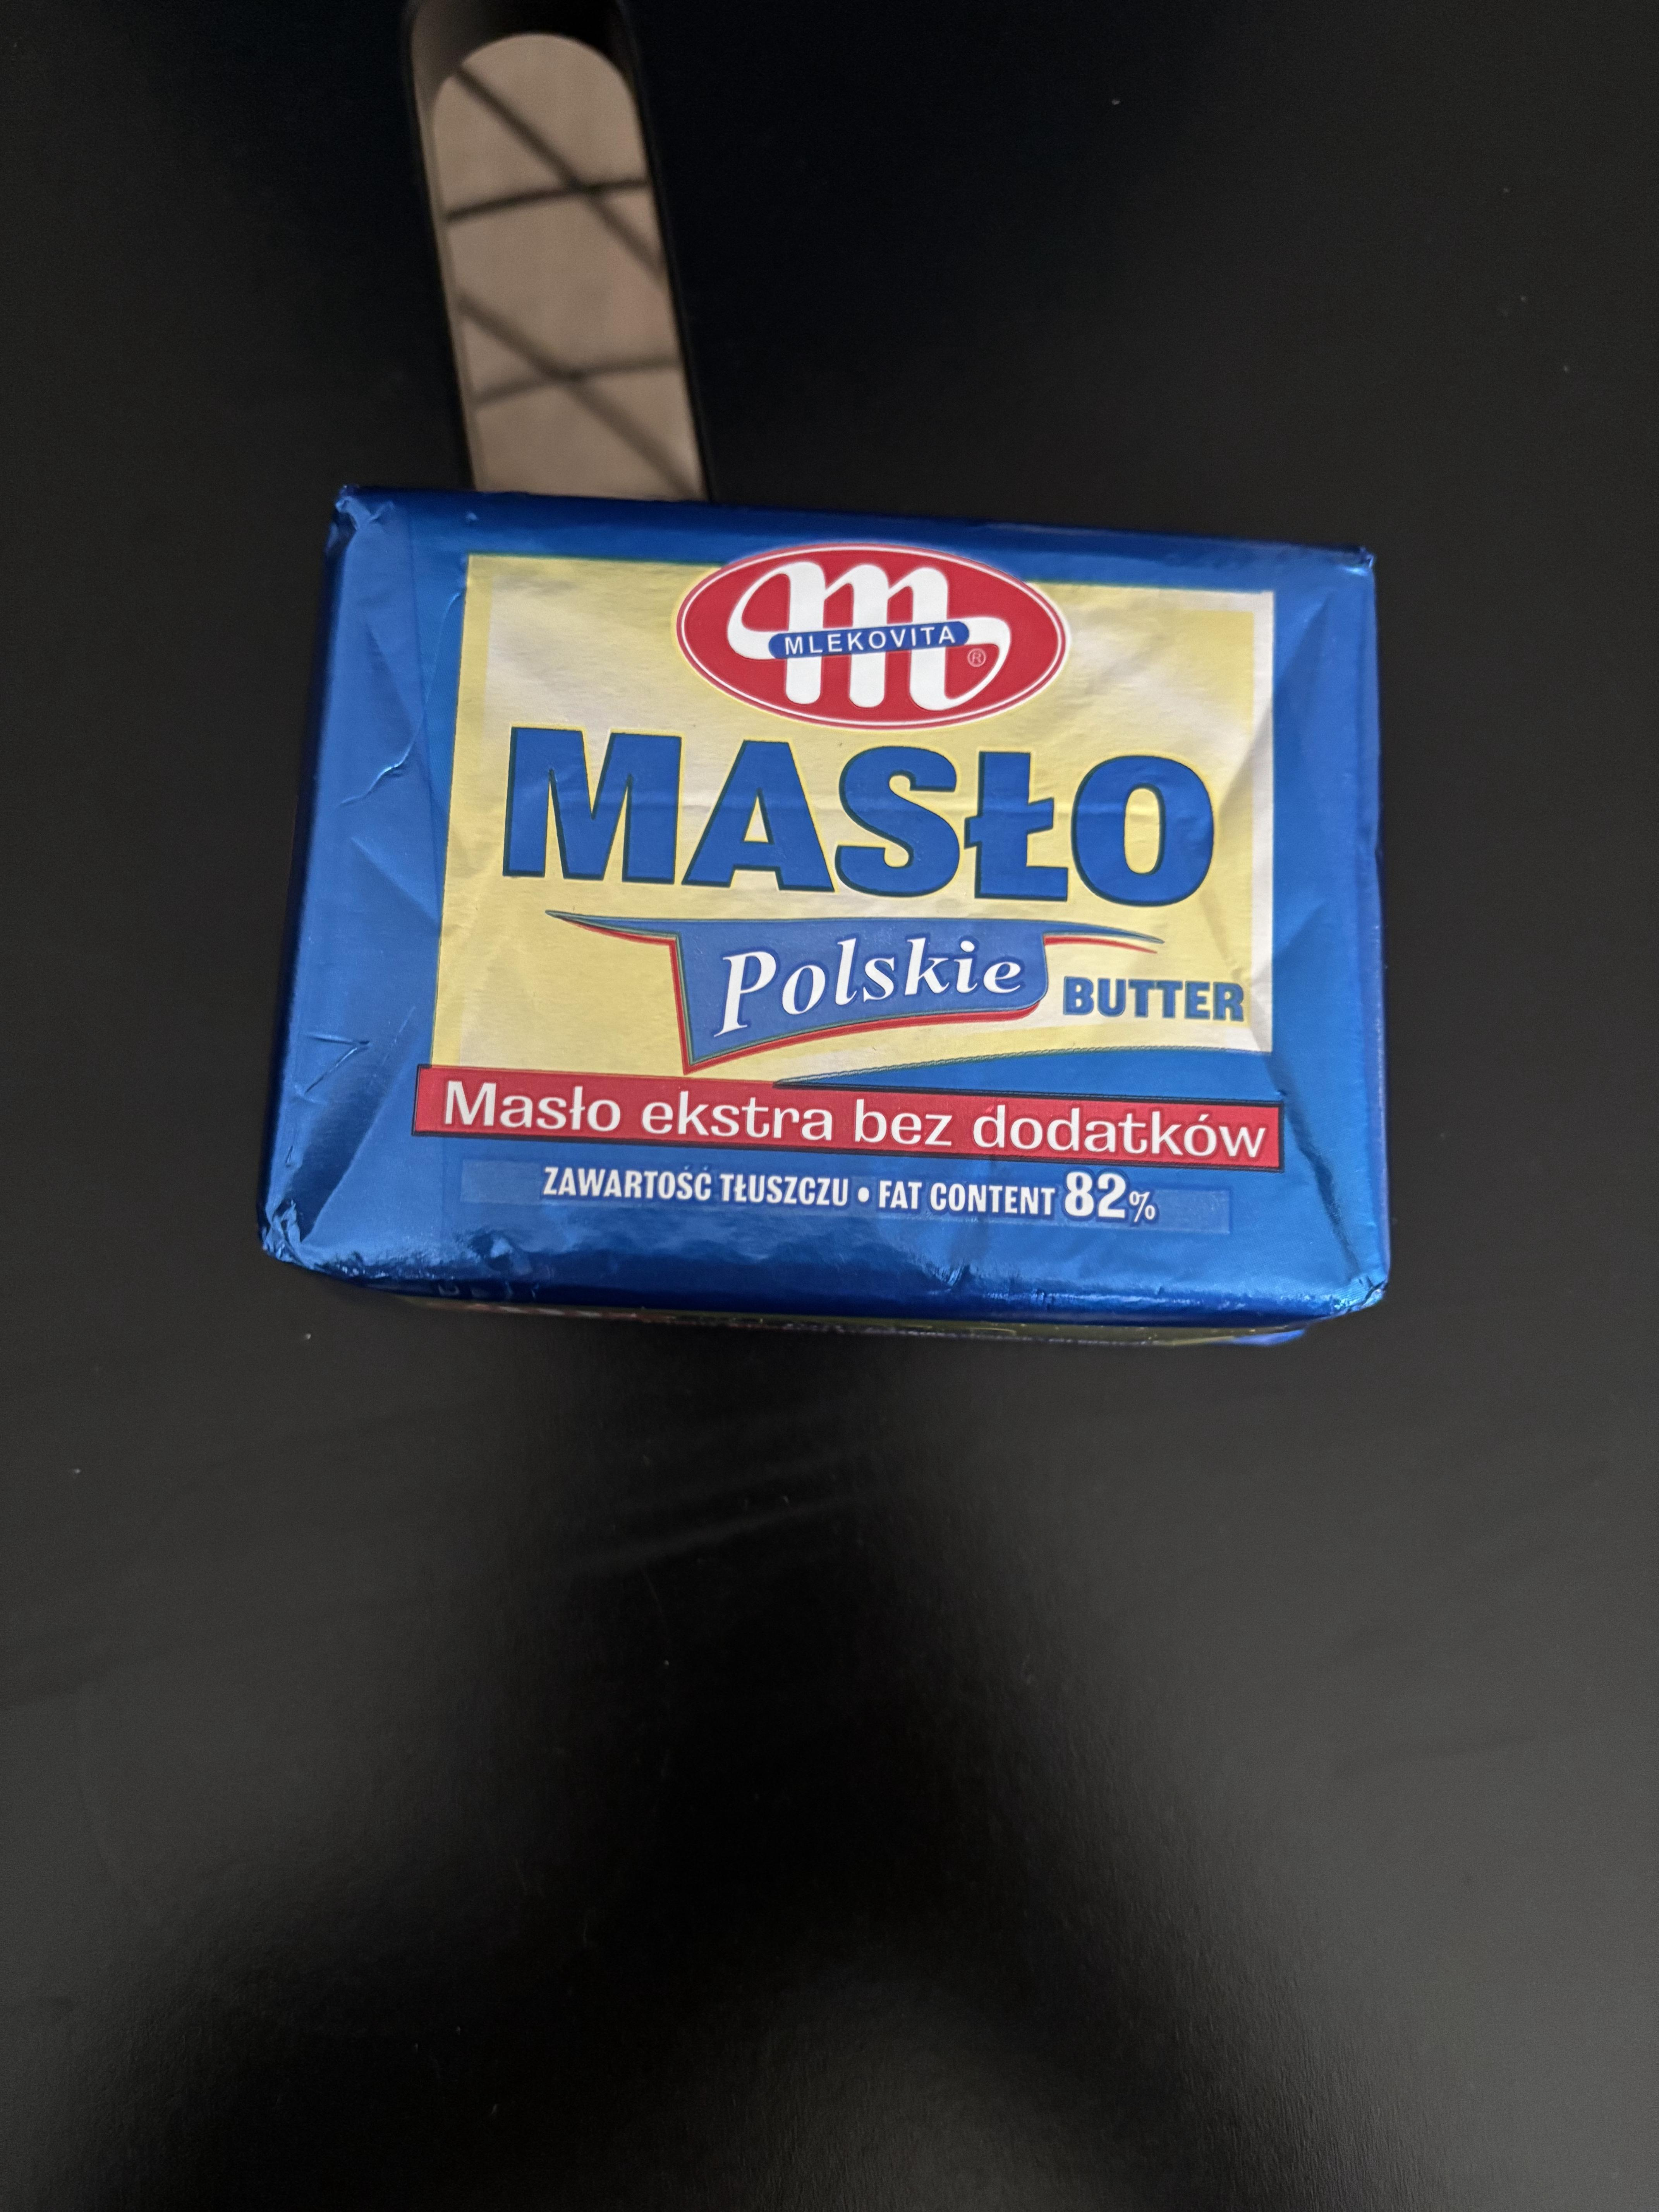Butter: (301, 475, 1408, 1364)
